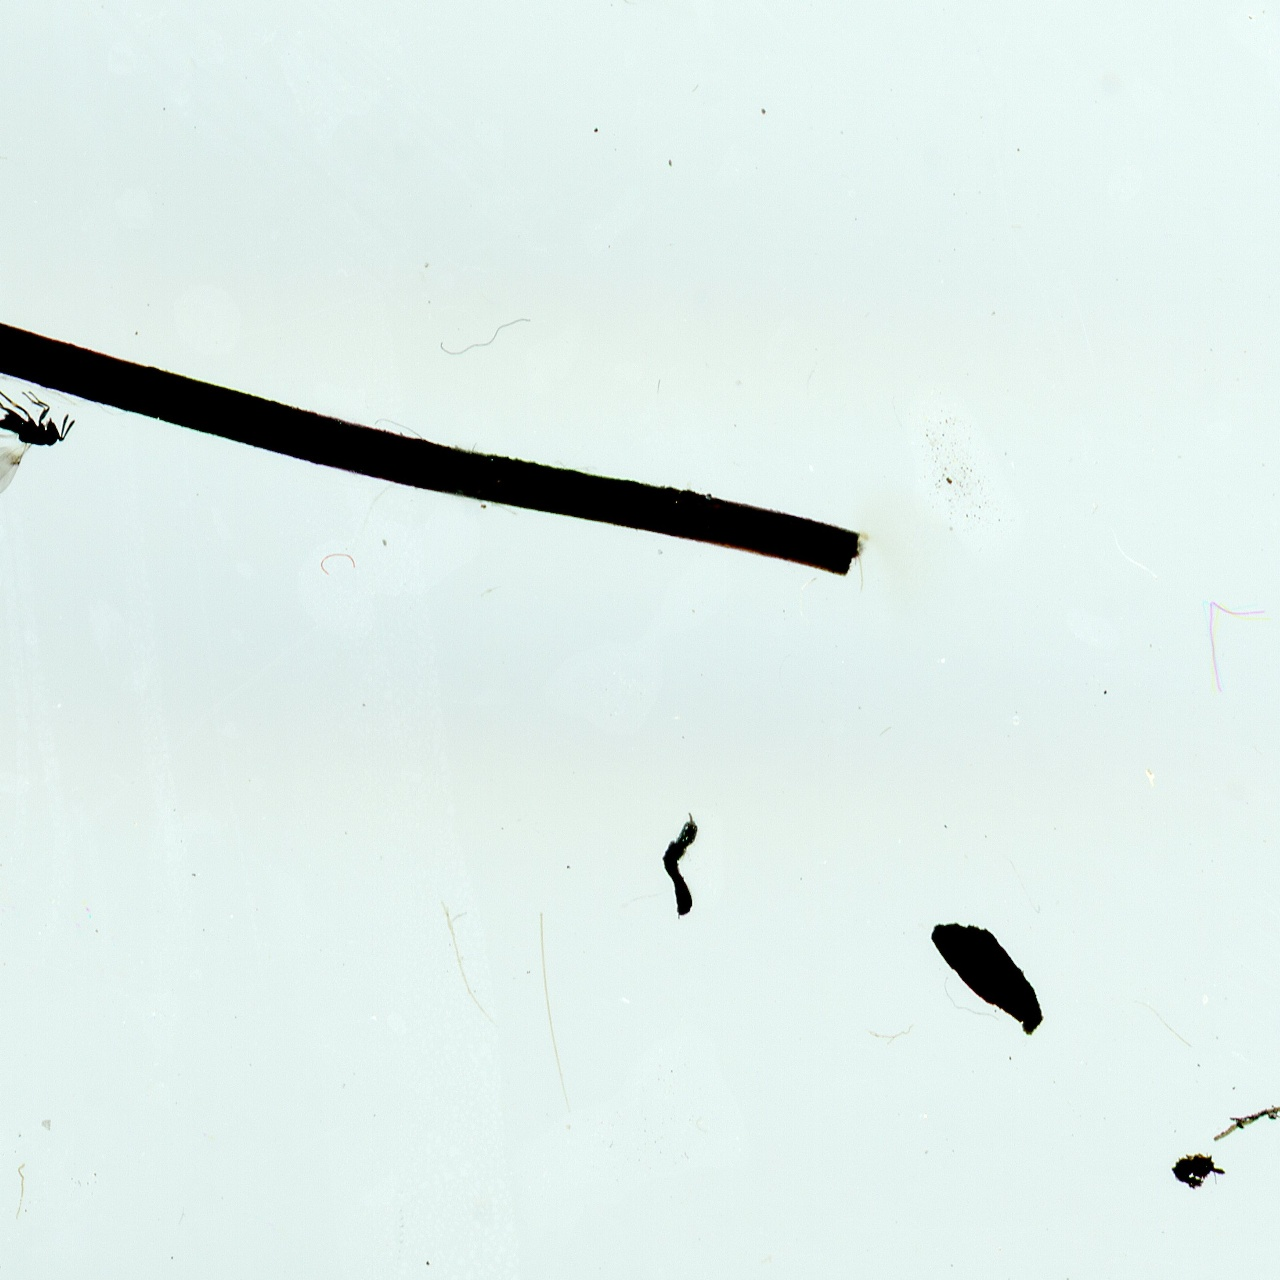arthropod: (0, 369, 79, 501)
